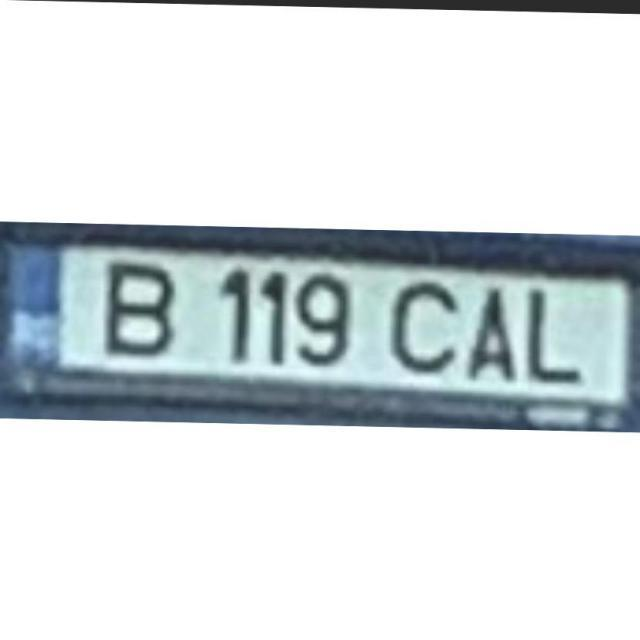license-plates: (57, 246, 630, 408)
